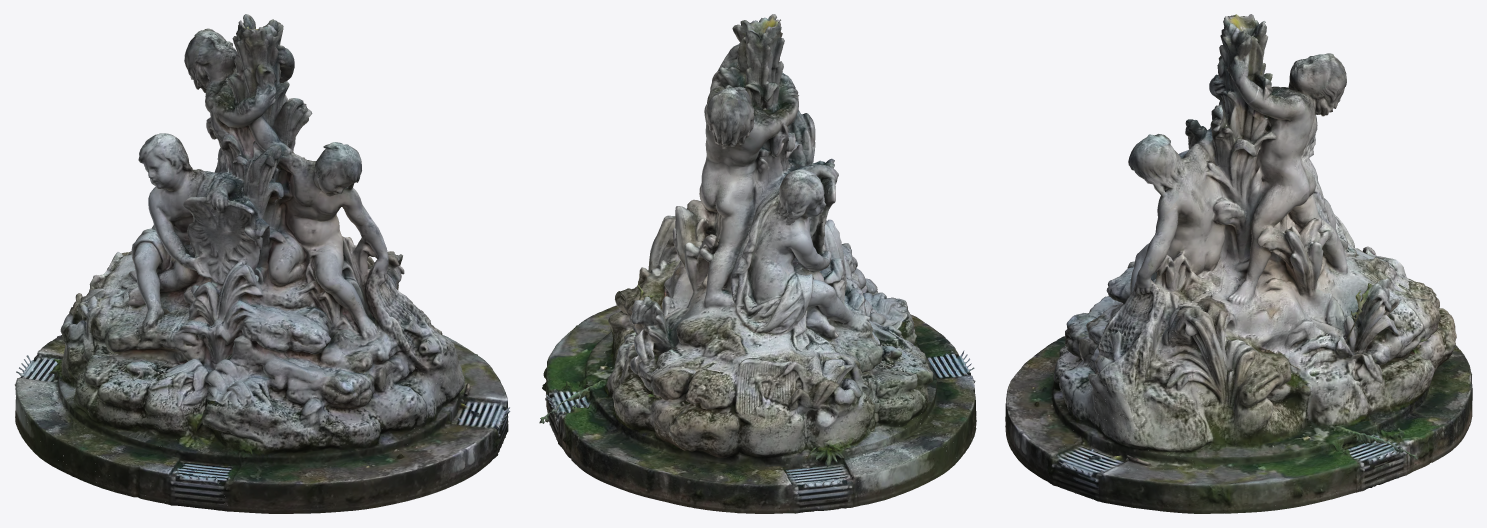
The model's file is fountain.glb.
3 views of the same model, side by side, from view 1: azimuth 30°, elevation 25°; view 2: azimuth 150°, elevation 25°; view 3: azimuth 270°, elevation 25° (orthographic).
Visible parts, largest first — view 1: kasna_luzanky; view 2: kasna_luzanky; view 3: kasna_luzanky.
Boxes of the visible parts, box(x1,y1,x2,y2) form: kasna_luzanky: box(14, 14, 510, 513); kasna_luzanky: box(539, 14, 976, 513); kasna_luzanky: box(1005, 14, 1472, 513).
Size of the model in its own units: 3.25 by 3.05 by 3.26.
1 material, 1 textured.
